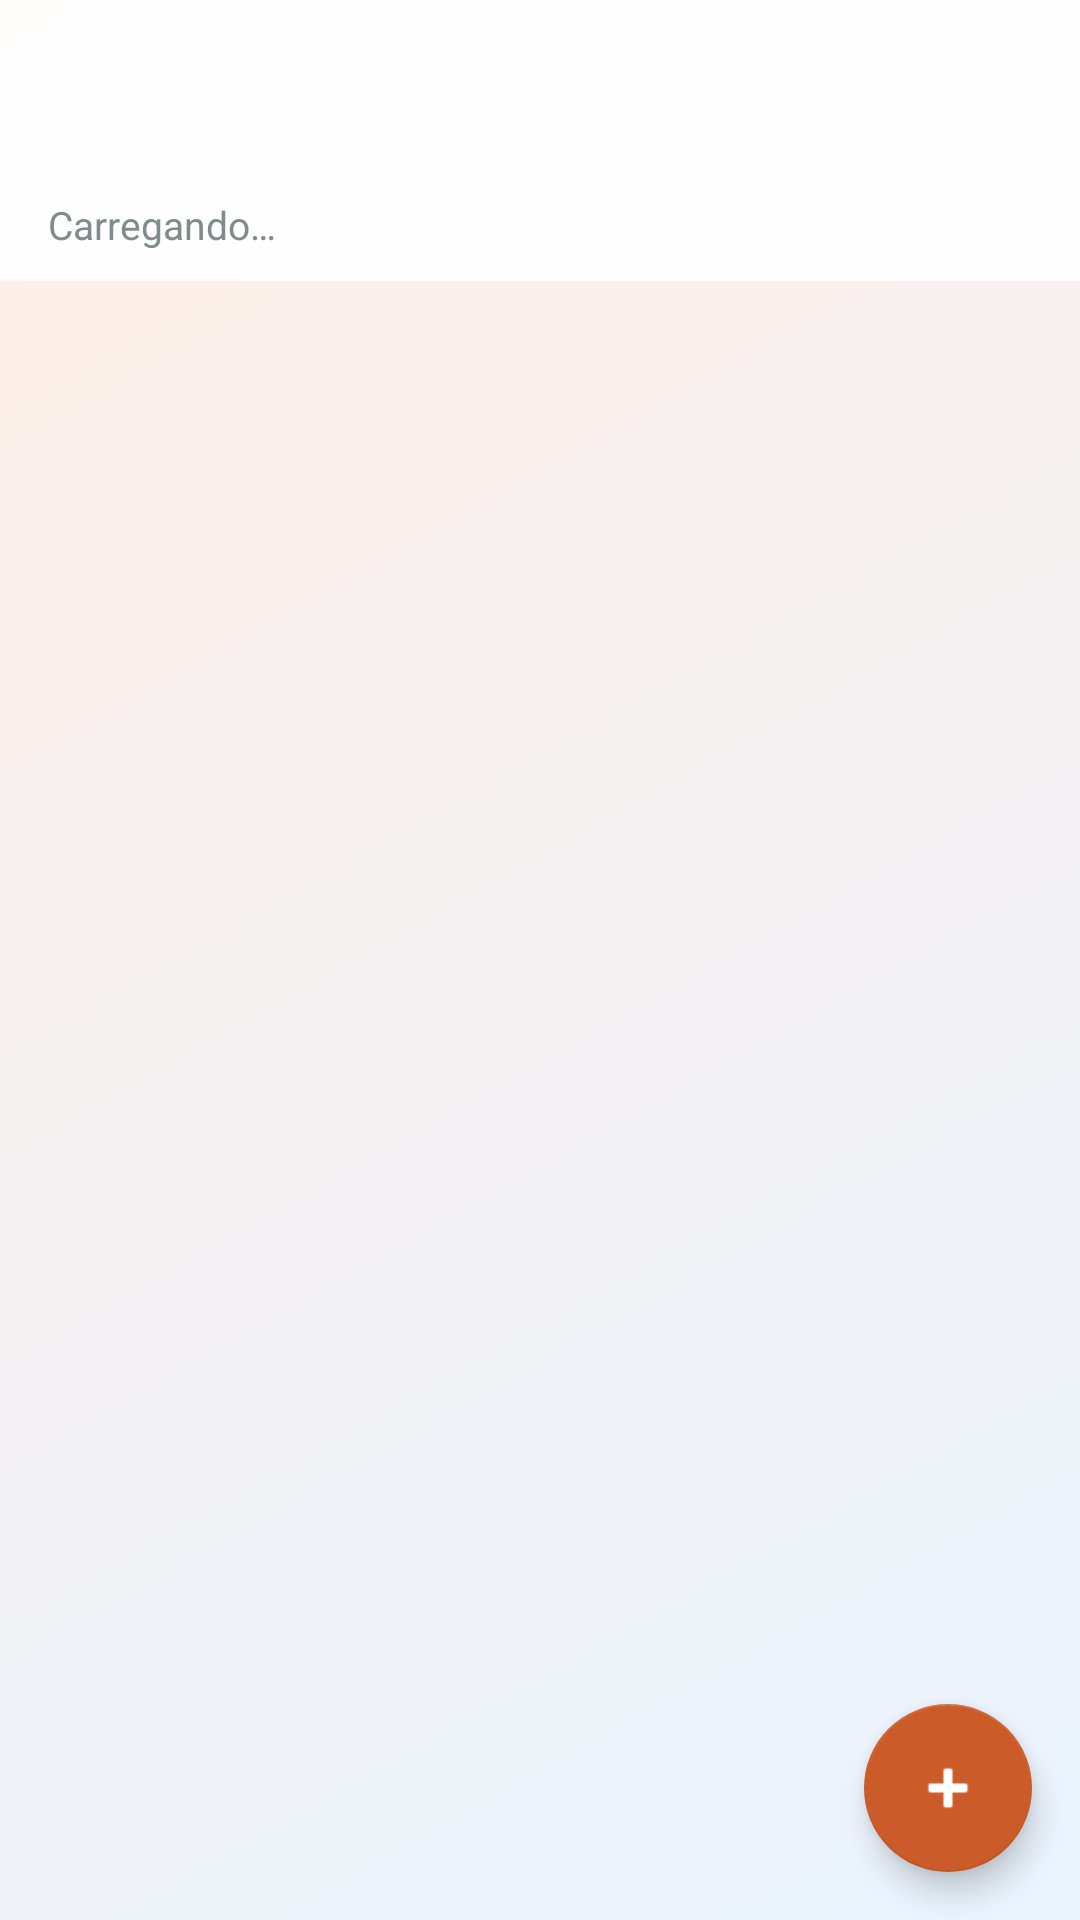

Icon bounding boxes for this 1080px×1920px phone screenshot, format {"left": x1, "top": y1, "right": x2, "bottom": y2}:
Adicionar operador: {"left": 864, "top": 1704, "right": 1032, "bottom": 1872}
